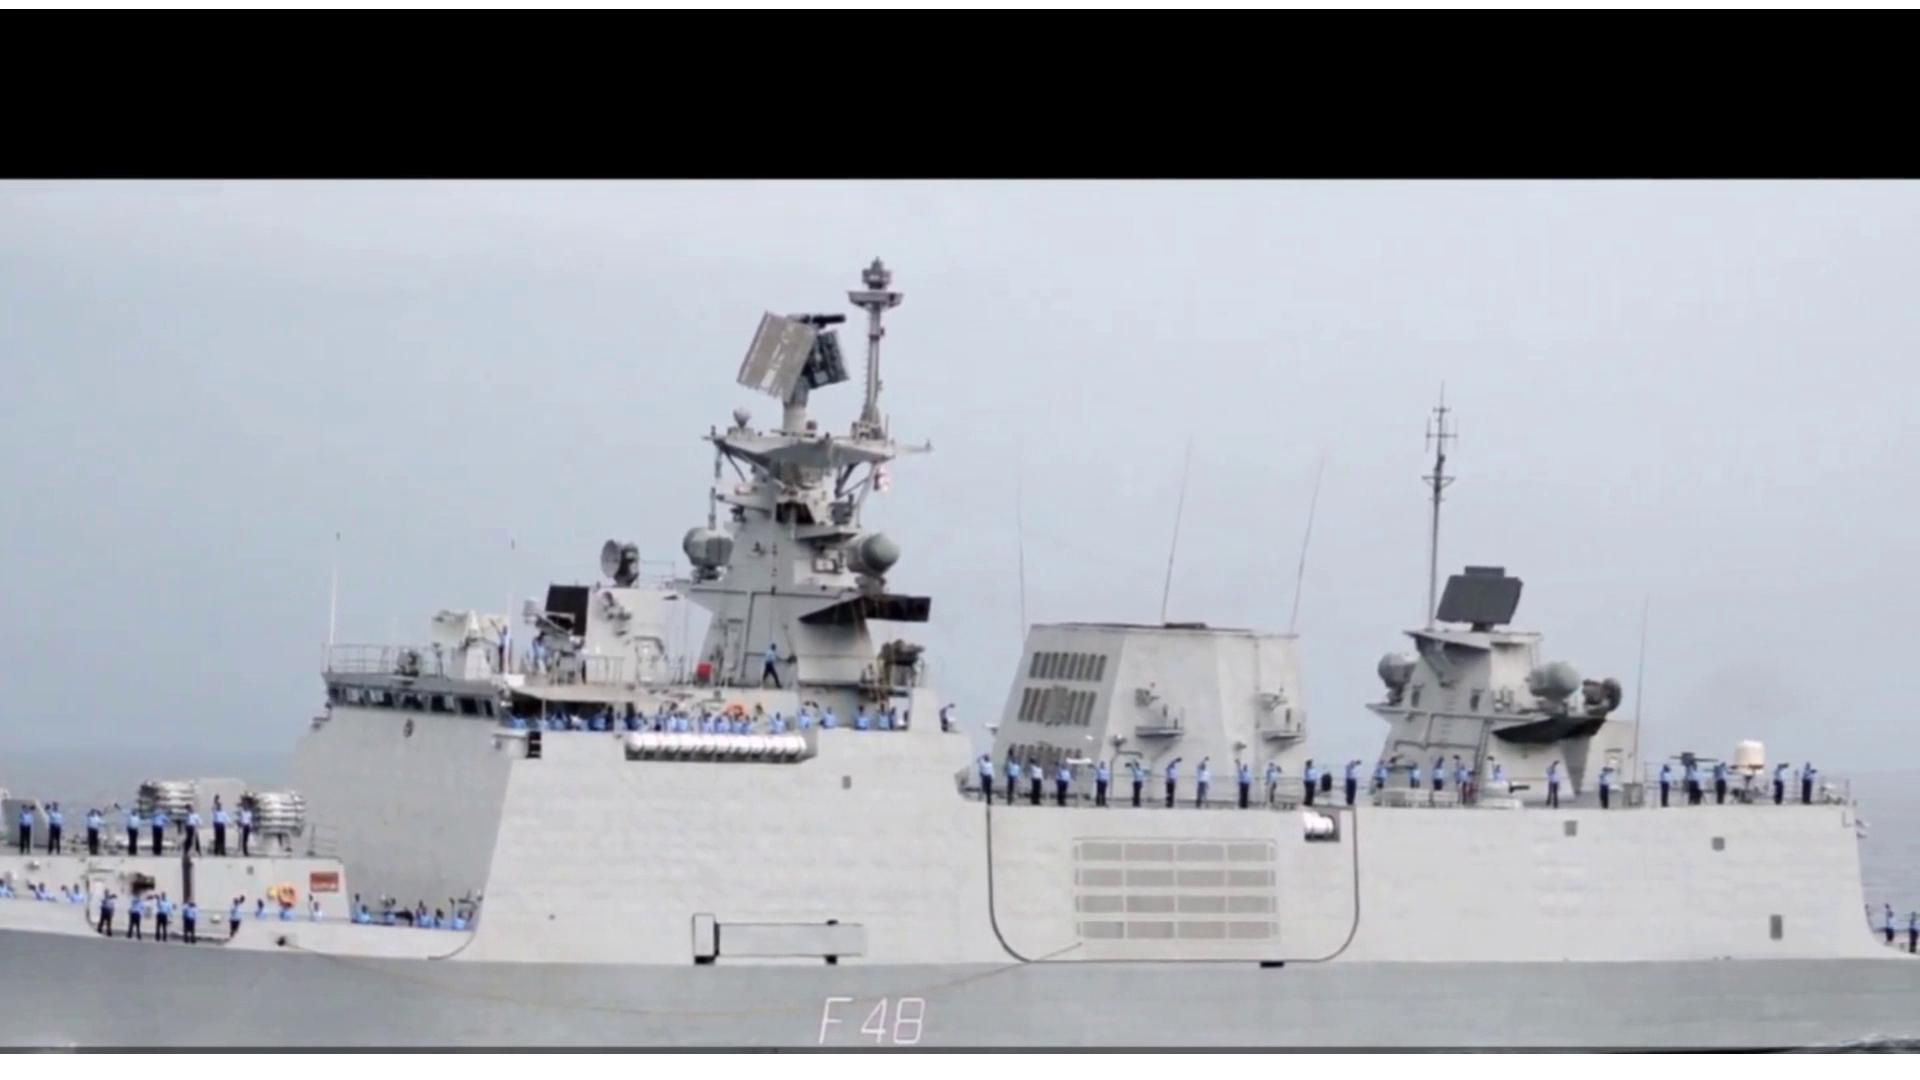OCR: (781, 984, 939, 1046)
